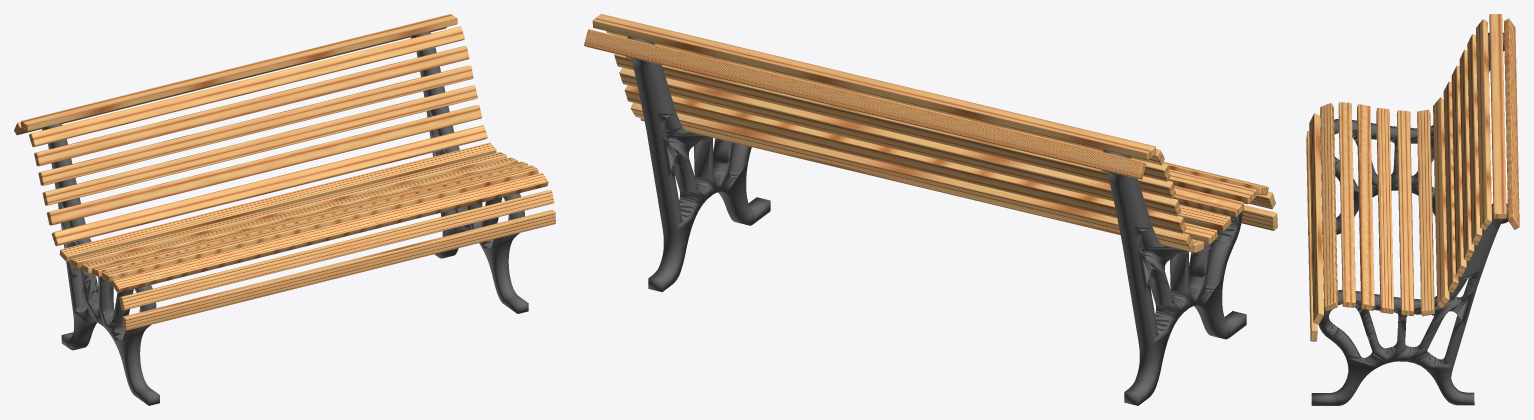
File: bancoText.obj
3 views of the same model, side by side, from view 1: azimuth 30°, elevation 25°; view 2: azimuth 150°, elevation 25°; view 3: azimuth 270°, elevation 25° (orthographic). The views are drawn at different scales.
Visible parts, largest first — view 1: ChamferBo2, ChamferBo7, ChamferBo4, ChamferB12, ChamferB10, ChamferBo3, ChamferB11, ChamferBo8, ChamferBo9, Shape02, ChamferB13, ChamferBo6 (+6 smaller); view 2: Shape02, Shape03, ChamferB14, ChamferB13, ChamferBo9, ChamferBo8, ChamferBo7, ChamferB10, ChamferBo6, ChamferB12, ChamferBo5, ChamferBo1 (+4 smaller); view 3: Shape03, ChamferBo4, ChamferBo1, ChamferBo0, ChamferBo6, ChamferBox, ChamferBo5, ChamferB13, ChamferB12, ChamferB14, ChamferBo7, ChamferBo3 (+6 smaller).
Boxes of the visible parts, left/top/right/bottom form: ChamferBo2: left=122, top=210, right=555, bottom=330; ChamferBo7: left=51, top=125, right=487, bottom=246; ChamferBo4: left=111, top=173, right=548, bottom=292; ChamferB12: left=29, top=26, right=464, bottom=147; ChamferB10: left=38, top=65, right=473, bottom=185; ChamferBo3: left=119, top=190, right=554, bottom=310; ChamferB11: left=34, top=46, right=469, bottom=166; ChamferBo8: left=47, top=105, right=481, bottom=225; ChamferBo9: left=42, top=85, right=477, bottom=205; Shape02: left=42, top=123, right=159, bottom=405; ChamferB13: left=21, top=14, right=457, bottom=131; ChamferBo6: left=59, top=142, right=496, bottom=261; Shape02: left=1101, top=150, right=1246, bottom=405; Shape03: left=625, top=36, right=770, bottom=292; ChamferB14: left=584, top=29, right=1146, bottom=179; ChamferB13: left=592, top=14, right=1155, bottom=160; ChamferBo9: left=619, top=67, right=1180, bottom=216; ChamferBo8: left=624, top=85, right=1186, bottom=233; ChamferBo7: left=630, top=102, right=1193, bottom=249; ChamferB10: left=614, top=54, right=1175, bottom=198; ChamferBo6: left=640, top=118, right=1204, bottom=252; ChamferB12: left=606, top=31, right=1164, bottom=165; ChamferBo5: left=1168, top=169, right=1256, bottom=204; ChamferBo1: left=1173, top=185, right=1244, bottom=217; Shape03: left=1311, top=203, right=1508, bottom=405; ChamferBo4: left=1320, top=103, right=1337, bottom=311; ChamferBo1: left=1357, top=104, right=1374, bottom=310; ChamferBo0: left=1376, top=108, right=1393, bottom=313; ChamferBo6: left=1417, top=109, right=1434, bottom=316; ChamferBox: left=1396, top=110, right=1414, bottom=315; ChamferBo5: left=1338, top=102, right=1355, bottom=307; ChamferB13: left=1489, top=14, right=1506, bottom=218; ChamferB12: left=1476, top=19, right=1491, bottom=230; ChamferB14: left=1504, top=18, right=1519, bottom=229; ChamferBo7: left=1433, top=97, right=1449, bottom=308; ChamferBo3: left=1309, top=113, right=1323, bottom=324.
Size of the model in its own units: 6.11 by 2.91 by 2.75.
